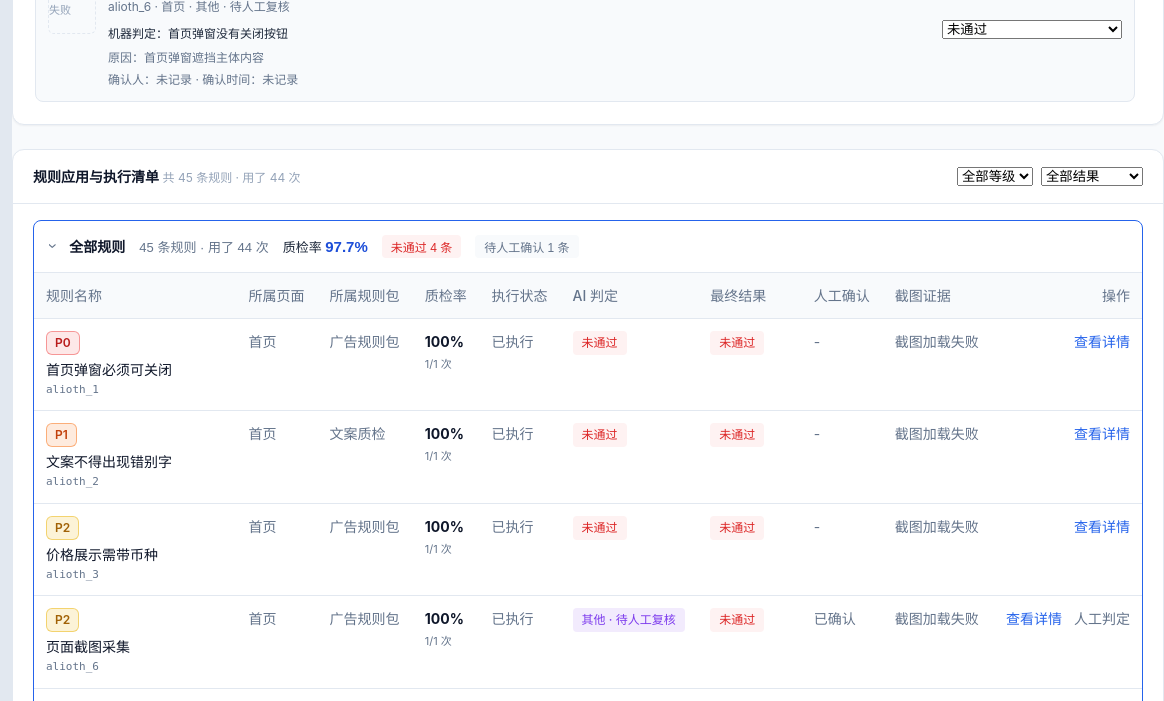
Test: ReportCenterView 报告详情 › 截图请求失败显示加载失败，不伪装成无证据
(page scrolled)
Click the button with test id "rule-detail-alioth_1": x=1102, y=341 [1074,331,1130,352]
(page scrolled)
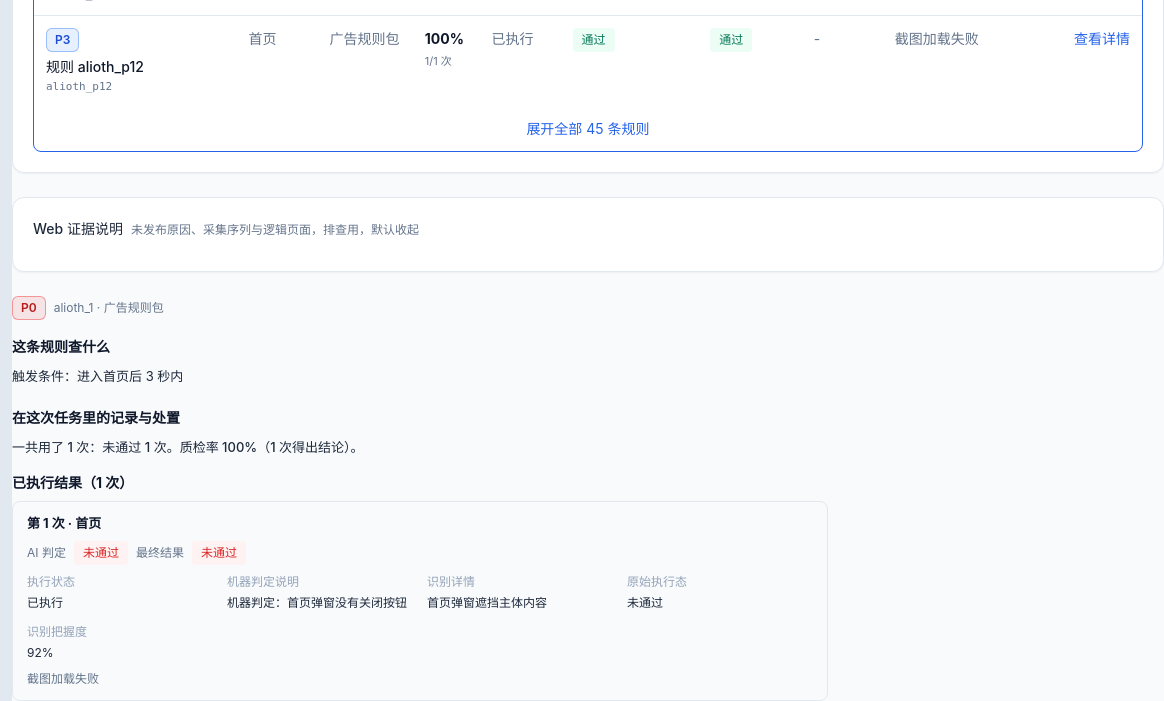
Result: the element with test id "rule-usage-dialog" shows "截图加载失败" at [27,671,99,686]
